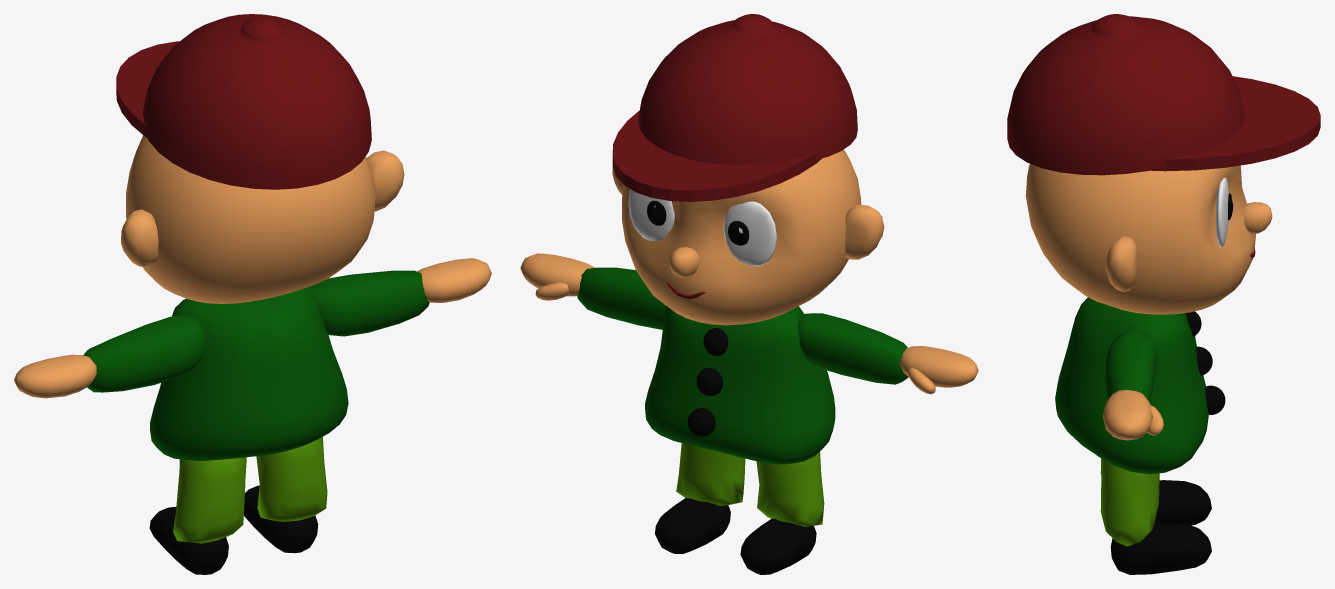
File: personaje3.fbx
3 renders of one model, left to right at view 1: azimuth 30°, elevation 25°; view 2: azimuth 150°, elevation 25°; view 3: azimuth 270°, elevation 25°, orthographic. The views are drawn at different scales.
Visible parts, largest first — view 1: Cilindro; view 2: Cilindro; view 3: Cilindro.
Part boxes in pixels (x1,y1,x2,y2): Cilindro: (14, 14, 491, 574); Cilindro: (520, 14, 978, 574); Cilindro: (1007, 14, 1320, 574).
Size of the model in its own units: 411 by 455 by 241.
